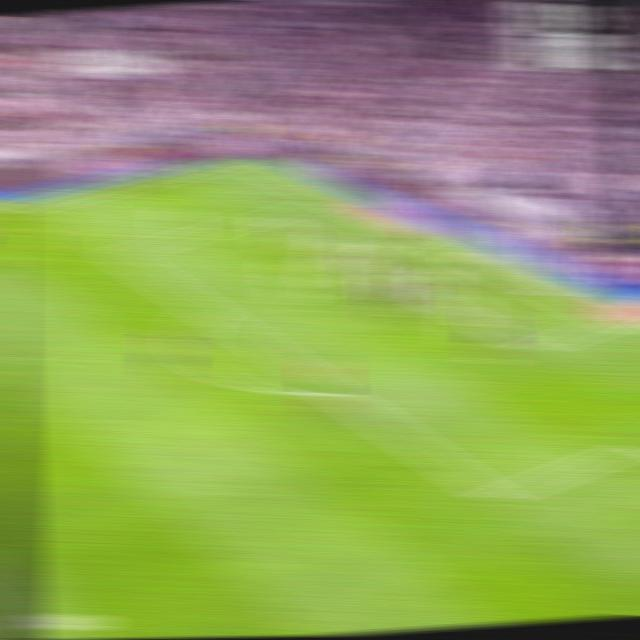bigarea_bottom_inner: (478, 481, 515, 512)
bigarea_top_inner: (103, 243, 136, 264)
bigarea_top_outter: (310, 192, 344, 209)
bottom_arc_area_intersection: (318, 384, 350, 401)
corner: (223, 155, 256, 168)
smallarea_bottom_inner: (517, 337, 549, 359)
smallarea_bottom_outter: (596, 314, 628, 331)
smallarea_top_inner: (335, 249, 366, 265)
top_arc_area_intersection: (190, 299, 223, 320)
